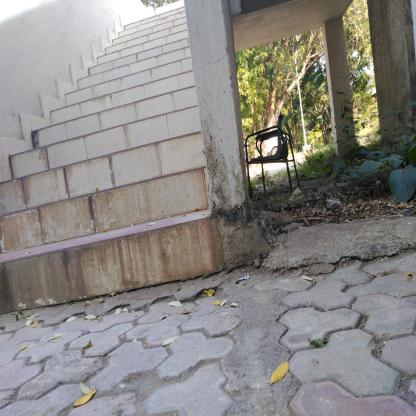stairs: (123, 23, 188, 312)
